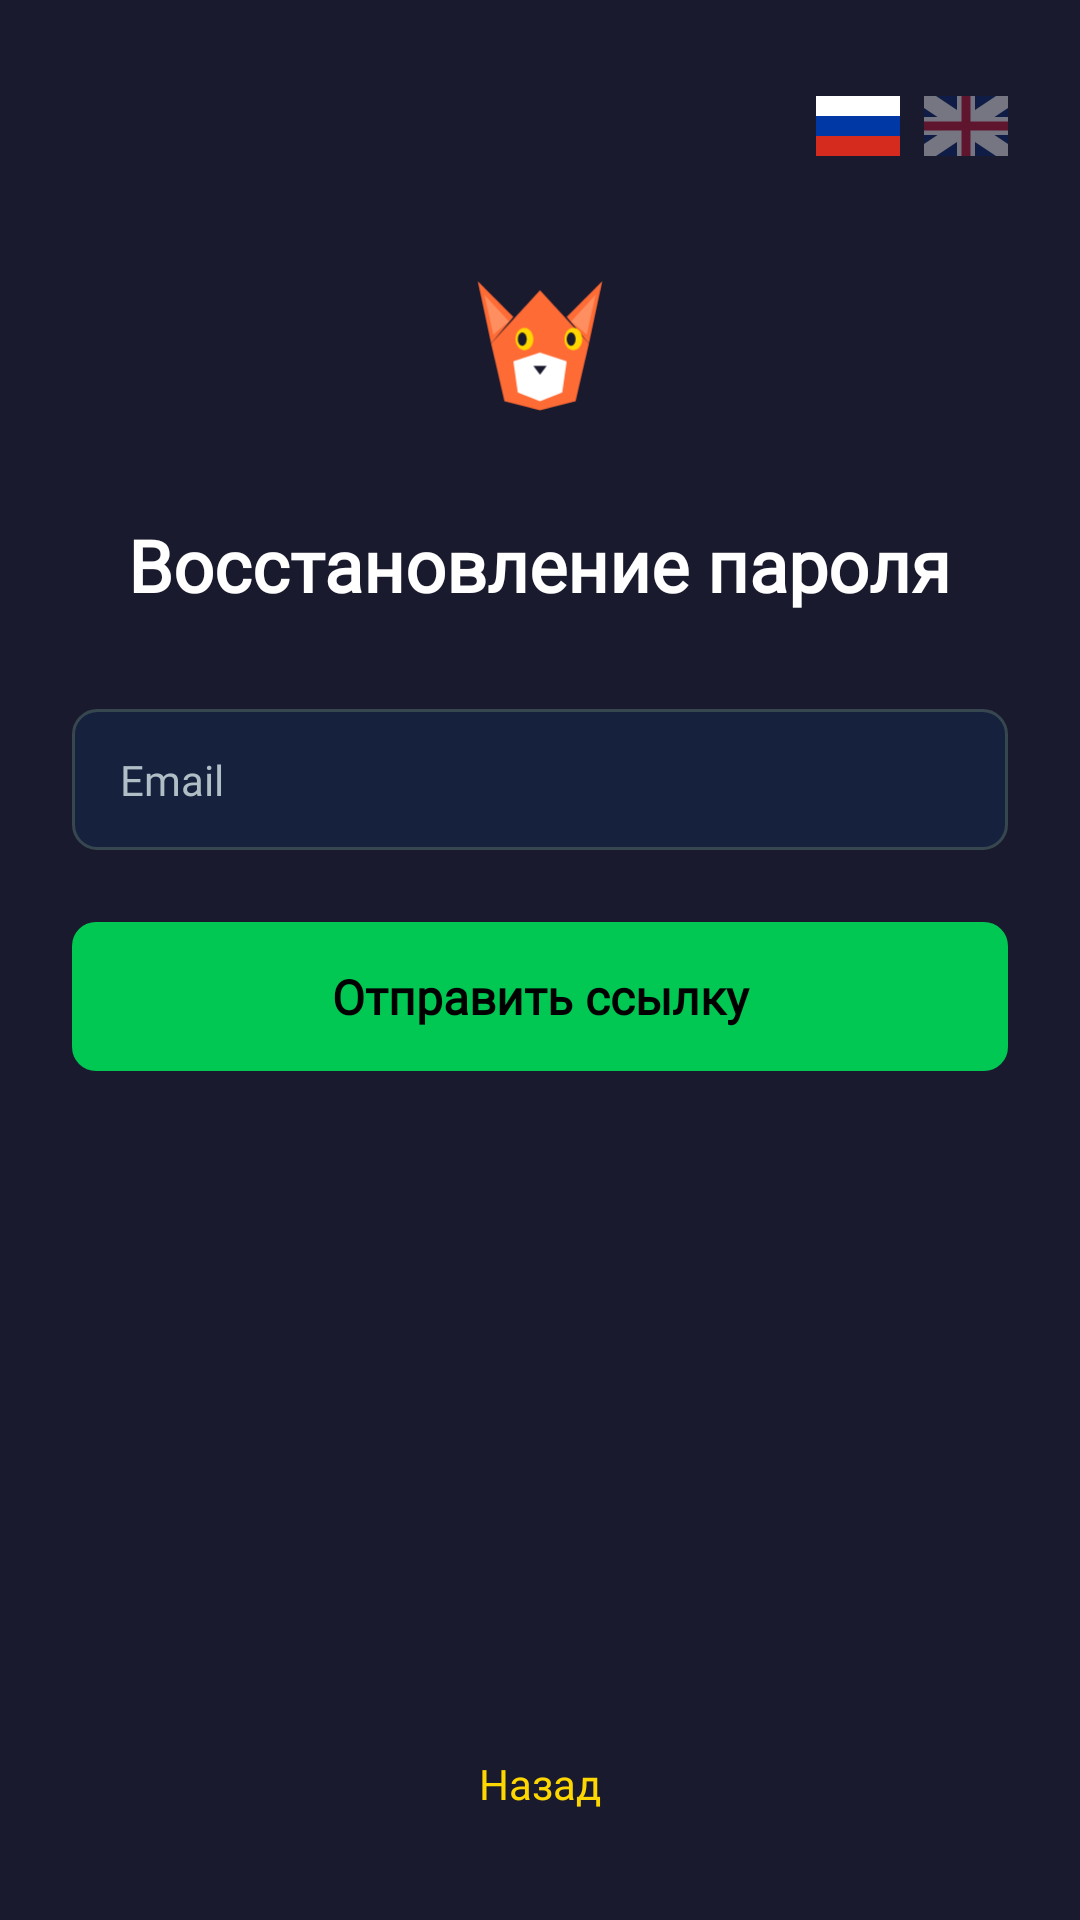

Icons on this 1080*1920 Android screen, each with the point to tap as [x,y]:
English: [966,126]
Русский: [858,126]
